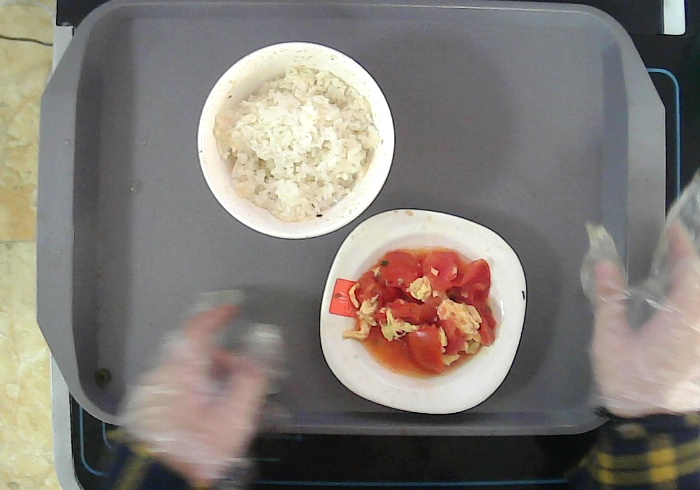SHKJ-Bai_Se_Si_Fang_Cai_Die: (316, 207, 531, 418)
SHKJ-Fan_Wan: (195, 40, 397, 240)
